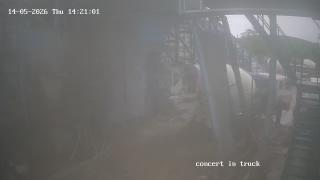cement_mixer_truck: (173, 62, 292, 134)
